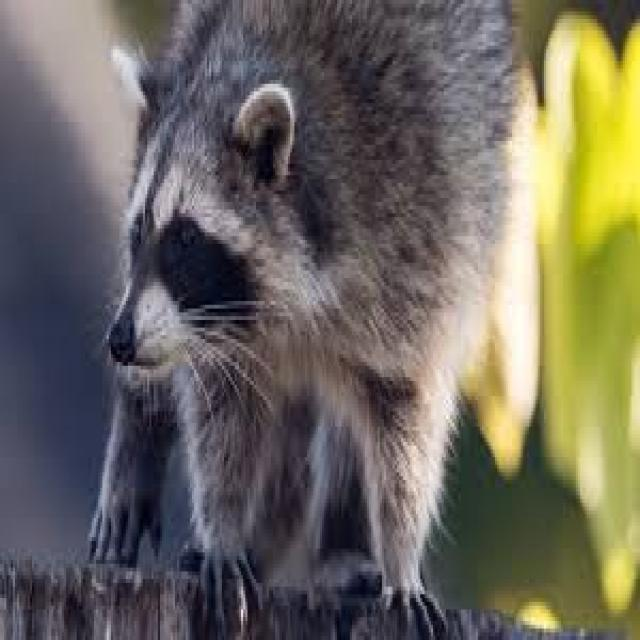Raccoon: (87, 1, 518, 626)
